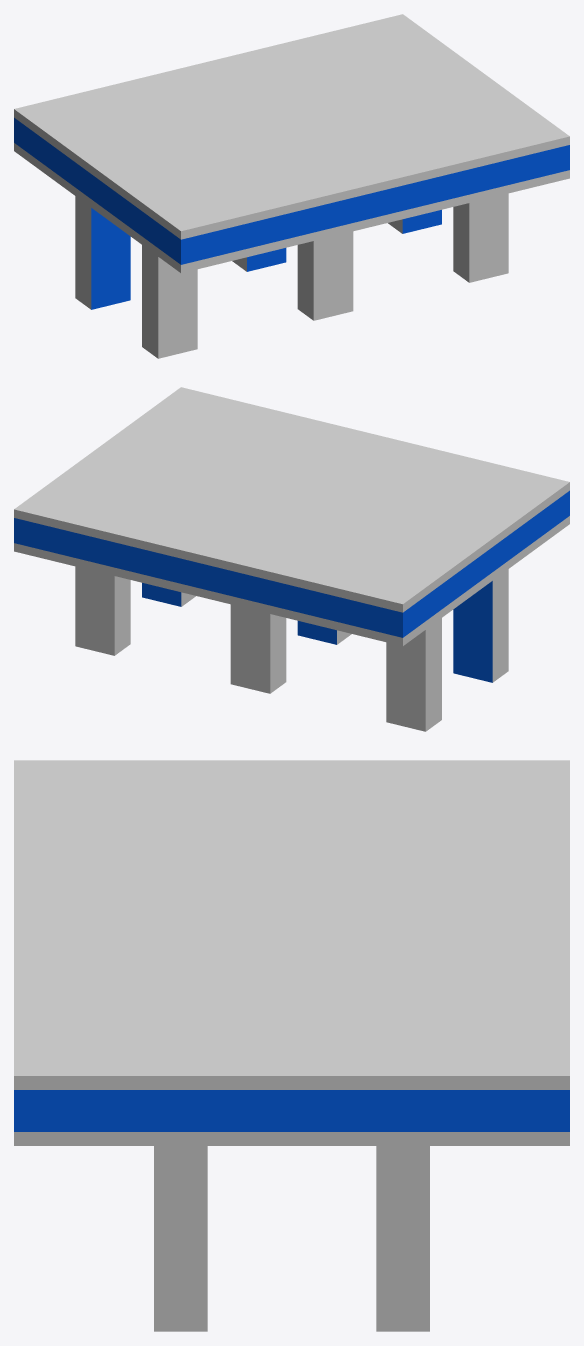
The model's file is oil shop2.fbx.
3 views of the same model, one above another, from view 1: azimuth 30°, elevation 25°; view 2: azimuth 150°, elevation 25°; view 3: azimuth 270°, elevation 25° (orthographic). The views are drawn at different scales.
Visible parts, largest first — view 1: Box345; view 2: Box345; view 3: Box345.
Boxes of the visible parts, x1,y1,x2,y2 form: Box345: (14,14,569,358); Box345: (14,387,569,731); Box345: (14,760,569,1331).
Bounding box in the file's own units: 149 × 59.71 × 111.
